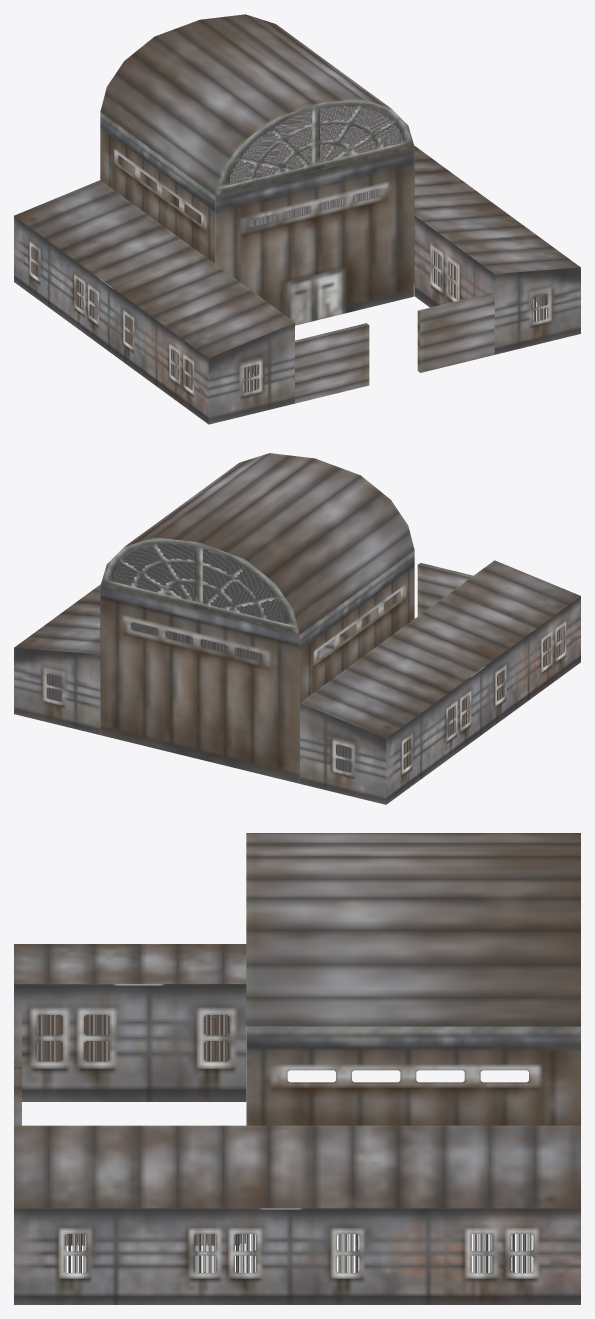
The model's file is meethall.glb.
3 views of the same model, one above another, from view 1: azimuth 30°, elevation 25°; view 2: azimuth 150°, elevation 25°; view 3: azimuth 270°, elevation 25° (orthographic). The views are drawn at different scales.
Parts seen in each view (by area): view 1: Box01, LitWin_MeetingHall; view 2: Box01, LitWin_MeetingHall; view 3: Box01, LitWin_MeetingHall.
Boxes of the visible parts, x1=… form: Box01: x1=14, y1=14, x2=580, y2=424; LitWin_MeetingHall: x1=31, y1=105, x2=547, y2=392; Box01: x1=14, y1=453, x2=580, y2=804; LitWin_MeetingHall: x1=47, y1=544, x2=564, y2=772; Box01: x1=14, y1=833, x2=580, y2=1304; LitWin_MeetingHall: x1=37, y1=1015, x2=532, y2=1272.
Bounding box in the file's own units: 23.1 × 12.87 × 20.94.
Materials: 1 (1 with a texture image).
